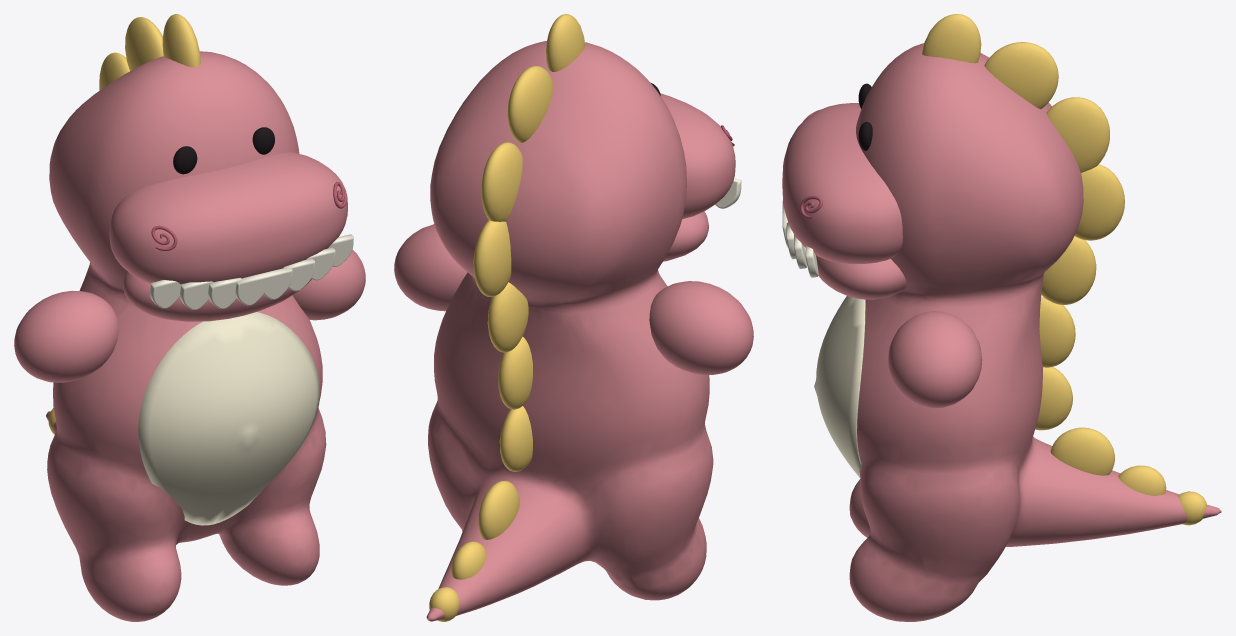
The model's file is dinocky-plush.glb.
The picture shows the model from 3 angles, left to right: view 1: azimuth 30°, elevation 25°; view 2: azimuth 150°, elevation 25°; view 3: azimuth 270°, elevation 25°; orthographic projection. The views are drawn at different scales.
Visible parts, largest first — view 1: Dinocky_Body_Game, Dinocky_Belly_Game, Dinocky_Muzzle_Game, Dinocky_Arm_L_Game, Dinocky_Tooths_Game, Dinocky_Spikes_Game, Dinocky_Arm_R_Game, Dinocky_Jaw_Game, Dinocky_Cheeks_Game, Dinocky_Eye_L_Game, Dinocky_Eye_R_Game; view 2: Dinocky_Body_Game, Dinocky_Spikes_Game, Dinocky_Arm_L_Game, Dinocky_Muzzle_Game, Dinocky_Arm_R_Game, Dinocky_Jaw_Game; view 3: Dinocky_Body_Game, Dinocky_Spikes_Game, Dinocky_Muzzle_Game, Dinocky_Arm_R_Game, Dinocky_Belly_Game, Dinocky_Jaw_Game, Dinocky_Tooths_Game.
Part boxes in pixels (x1=…): Dinocky_Body_Game: x1=46, y1=51, x2=326, y2=621; Dinocky_Belly_Game: x1=138, y1=312, x2=320, y2=525; Dinocky_Muzzle_Game: x1=109, y1=152, x2=347, y2=284; Dinocky_Arm_L_Game: x1=14, y1=290, x2=118, y2=382; Dinocky_Tooths_Game: x1=150, y1=234, x2=353, y2=309; Dinocky_Spikes_Game: x1=48, y1=14, x2=200, y2=434; Dinocky_Arm_R_Game: x1=292, y1=250, x2=365, y2=320; Dinocky_Jaw_Game: x1=123, y1=271, x2=311, y2=321; Dinocky_Cheeks_Game: x1=151, y1=182, x2=346, y2=250; Dinocky_Eye_L_Game: x1=173, y1=146, x2=197, y2=174; Dinocky_Eye_R_Game: x1=252, y1=127, x2=274, y2=154; Dinocky_Body_Game: x1=426, y1=41, x2=713, y2=621; Dinocky_Spikes_Game: x1=429, y1=14, x2=584, y2=621; Dinocky_Arm_L_Game: x1=649, y1=281, x2=753, y2=374; Dinocky_Muzzle_Game: x1=660, y1=93, x2=735, y2=219; Dinocky_Arm_R_Game: x1=394, y1=224, x2=467, y2=311; Dinocky_Jaw_Game: x1=663, y1=211, x2=708, y2=261; Dinocky_Body_Game: x1=849, y1=43, x2=1221, y2=621; Dinocky_Spikes_Game: x1=922, y1=14, x2=1206, y2=525; Dinocky_Muzzle_Game: x1=782, y1=103, x2=902, y2=264; Dinocky_Arm_R_Game: x1=888, y1=311, x2=982, y2=408; Dinocky_Belly_Game: x1=814, y1=296, x2=865, y2=477; Dinocky_Jaw_Game: x1=816, y1=255, x2=906, y2=299; Dinocky_Tooths_Game: x1=782, y1=201, x2=818, y2=277.
Size of the model in its own units: 2.06 by 3.25 by 2.29.
